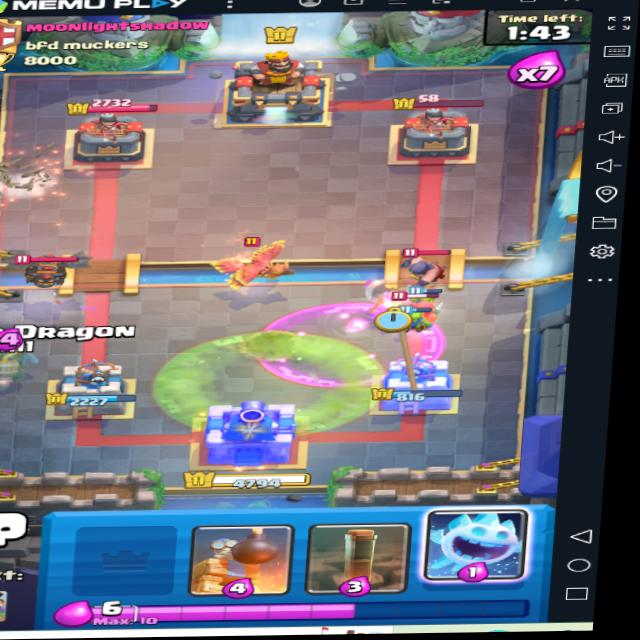Executioner: (386, 250, 456, 291)
Goblincurse: (140, 329, 385, 438)
Lavahound: (2, 249, 102, 290)
Pheonix: (198, 229, 319, 292)
Rage: (257, 296, 446, 390)
